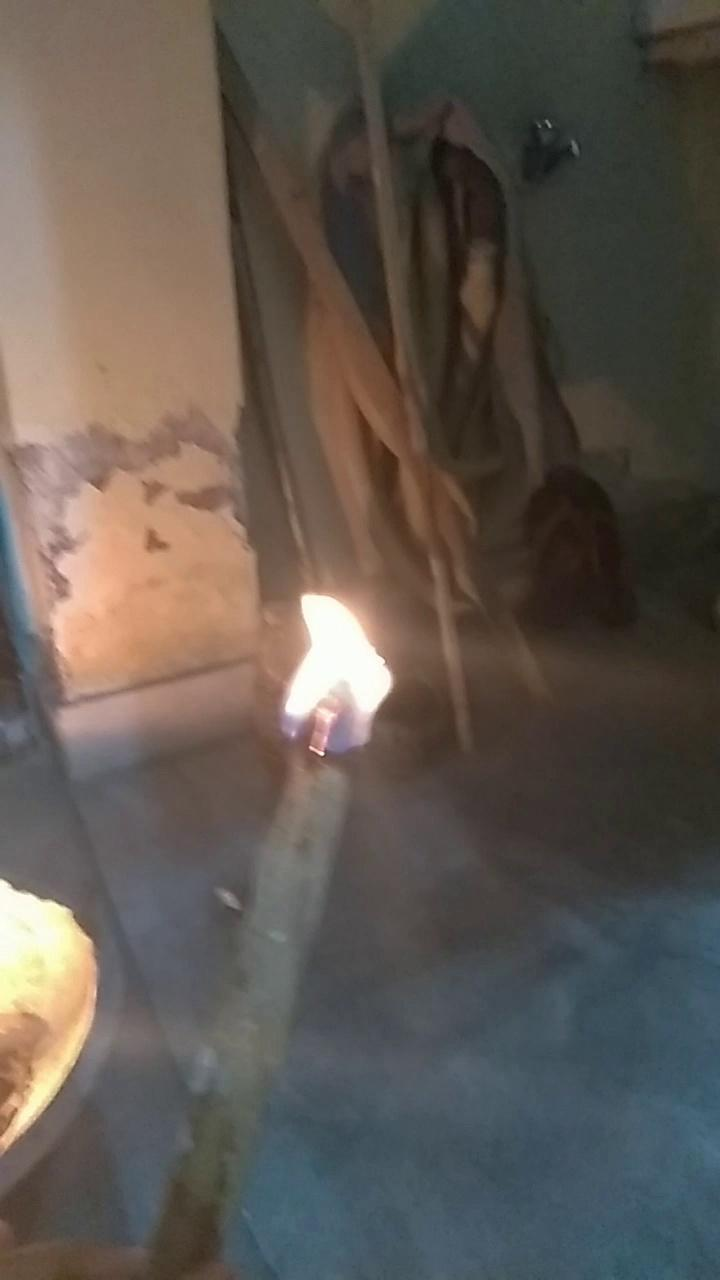fire: (230, 553, 434, 808)
